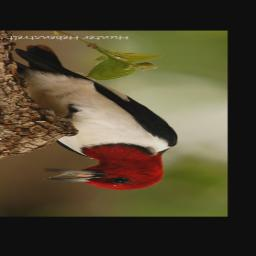Woodpecker: (15, 45, 179, 191)
